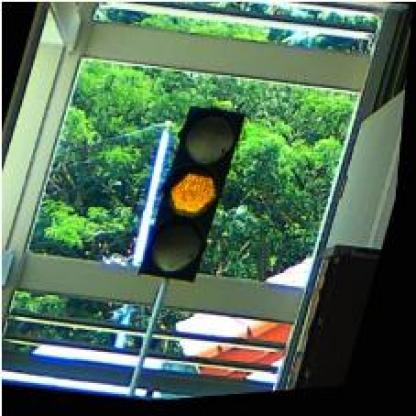yellow: (140, 102, 249, 287)
